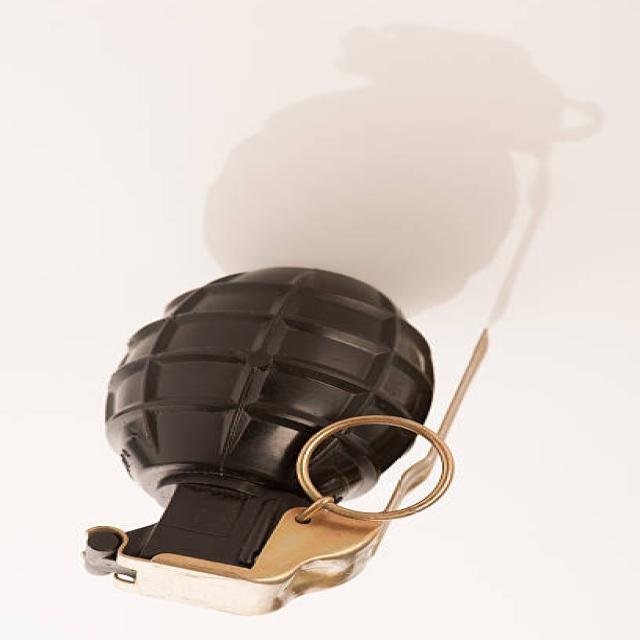grenade: (71, 266, 510, 621)
